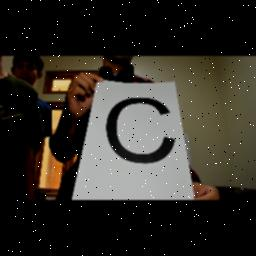c: (102, 94, 178, 170)
